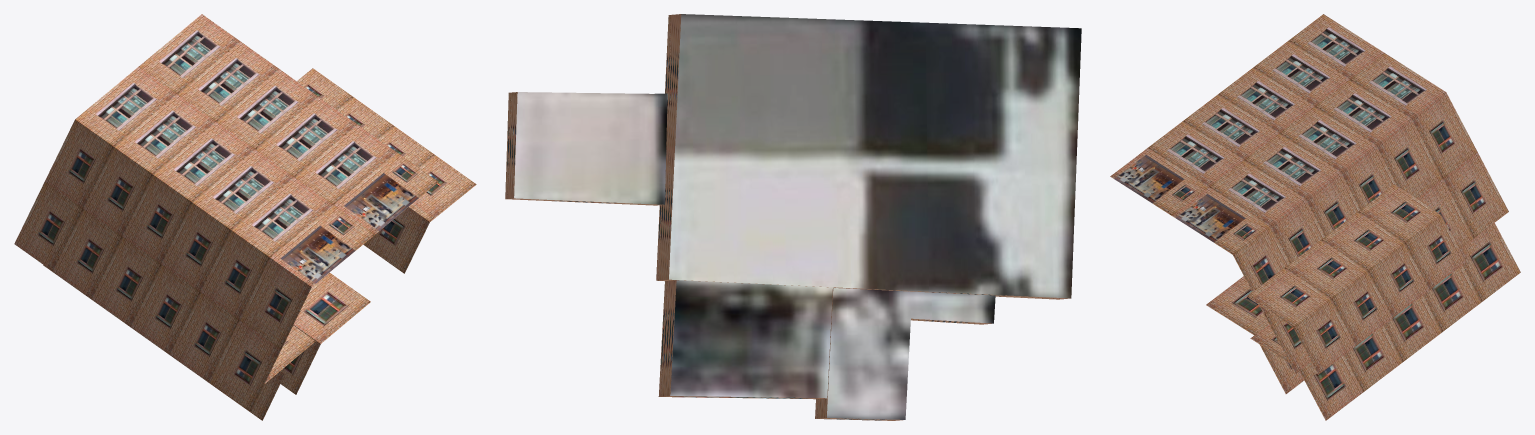
3 renders of one model, left to right at view 1: azimuth 30°, elevation 25°; view 2: azimuth 150°, elevation 25°; view 3: azimuth 270°, elevation 25°, orthographic. The views are drawn at different scales.
Size of the model in its own units: 30.26 by 22.8 by 27.92.
14 materials, 14 textured.
